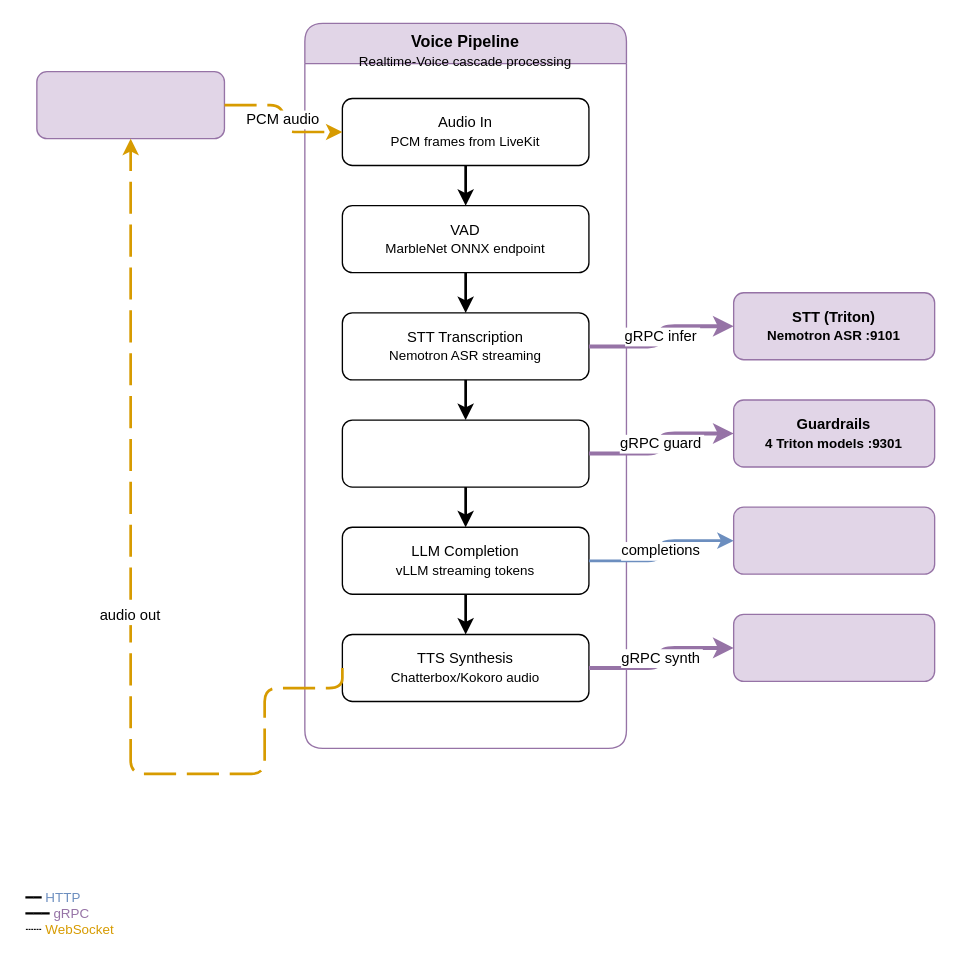
This 958x978 diagram has some shape labels left out. Each missing label, with the centre of its shape:
"Input Guardrails Injection + toxicity + PII" goes at point 465,453.
"LiveKit WebRTC SFU :7880" goes at point 130,104.
"LLM (vLLM) OpenAI-compat :9000" goes at point 833,540.
"TTS (Triton) Chatterbox :9201" goes at point 833,647.
